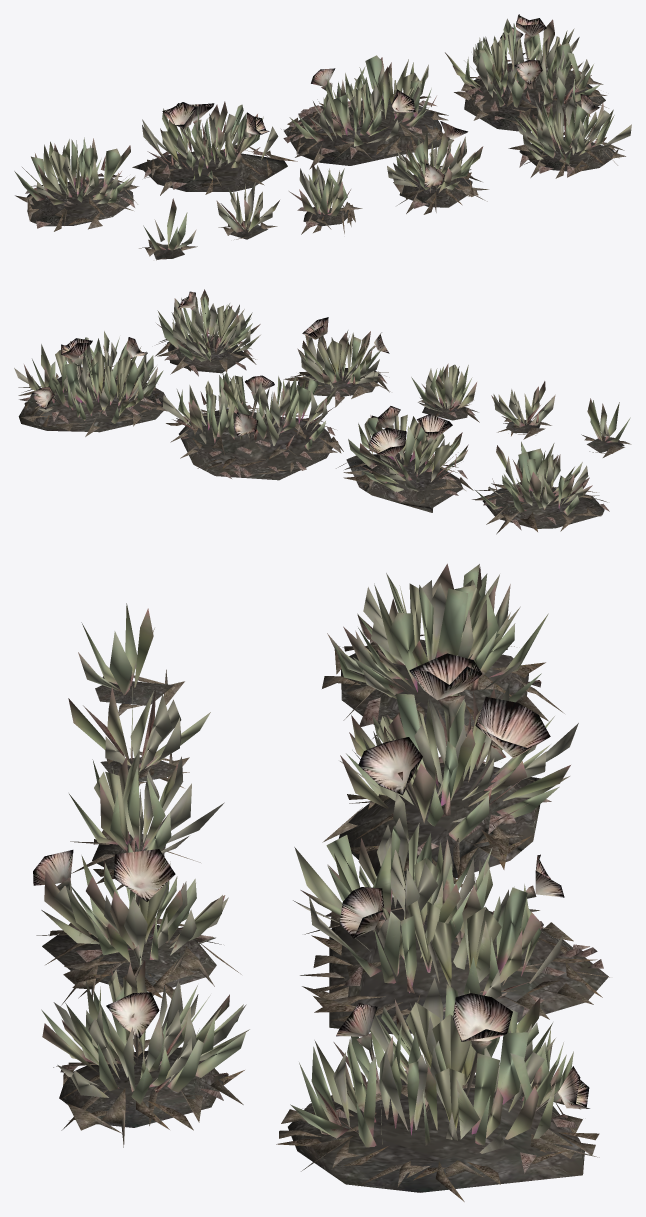
File: cheiridopsis_succulent.glb
3 renders of one model, top to bottom at view 1: azimuth 30°, elevation 25°; view 2: azimuth 150°, elevation 25°; view 3: azimuth 270°, elevation 25°, orthographic. The views are drawn at different scales.
Parts seen in each view (by area): view 1: cheiridopsis_succulent_a_LOD0, cheiridopsis_succulent_d_LOD0; view 2: cheiridopsis_succulent_a_LOD0, cheiridopsis_succulent_d_LOD0; view 3: cheiridopsis_succulent_a_LOD0, cheiridopsis_succulent_d_LOD0.
Part boxes in pixels (x1,y1,x2,y2): cheiridopsis_succulent_a_LOD0: (14,18,631,260); cheiridopsis_succulent_d_LOD0: (162,14,599,187); cheiridopsis_succulent_a_LOD0: (14,289,631,534); cheiridopsis_succulent_d_LOD0: (32,291,452,456); cheiridopsis_succulent_a_LOD0: (36,563,609,1201); cheiridopsis_succulent_d_LOD0: (33,653,589,1108).
Bounding box in the file's own units: 2.16 × 0.2707 × 0.9587.
2 materials, 2 textured.
